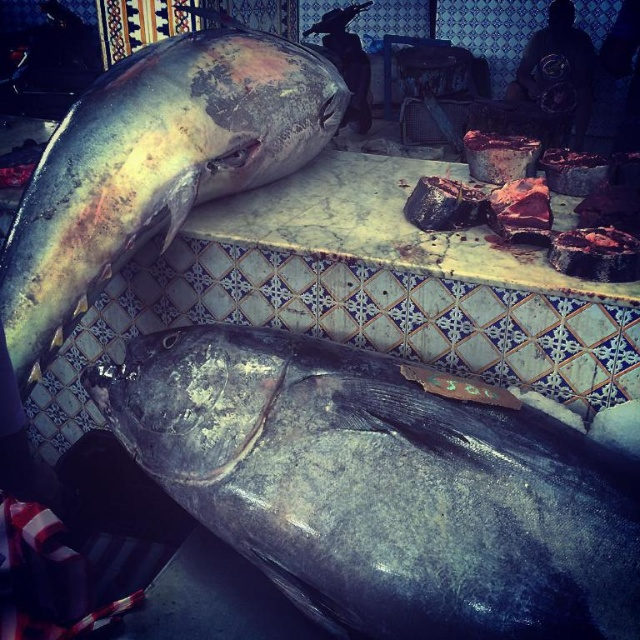Fish: (76, 292, 617, 631), (0, 0, 355, 404)
